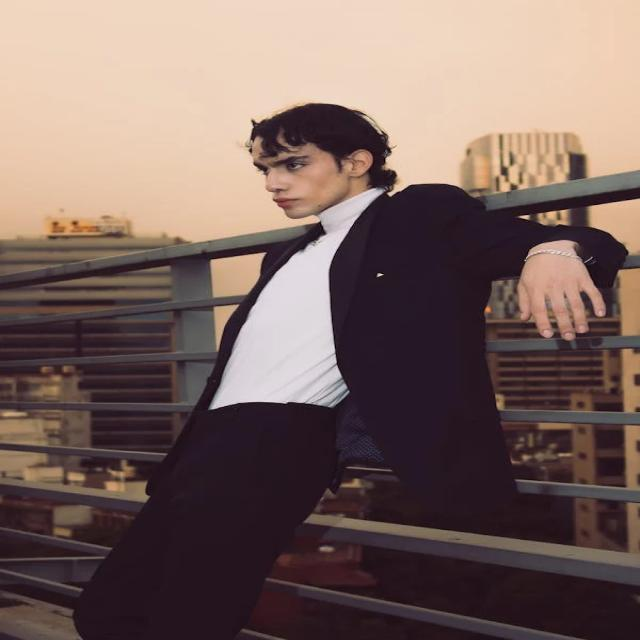Real human 2: (79, 101, 640, 635)
